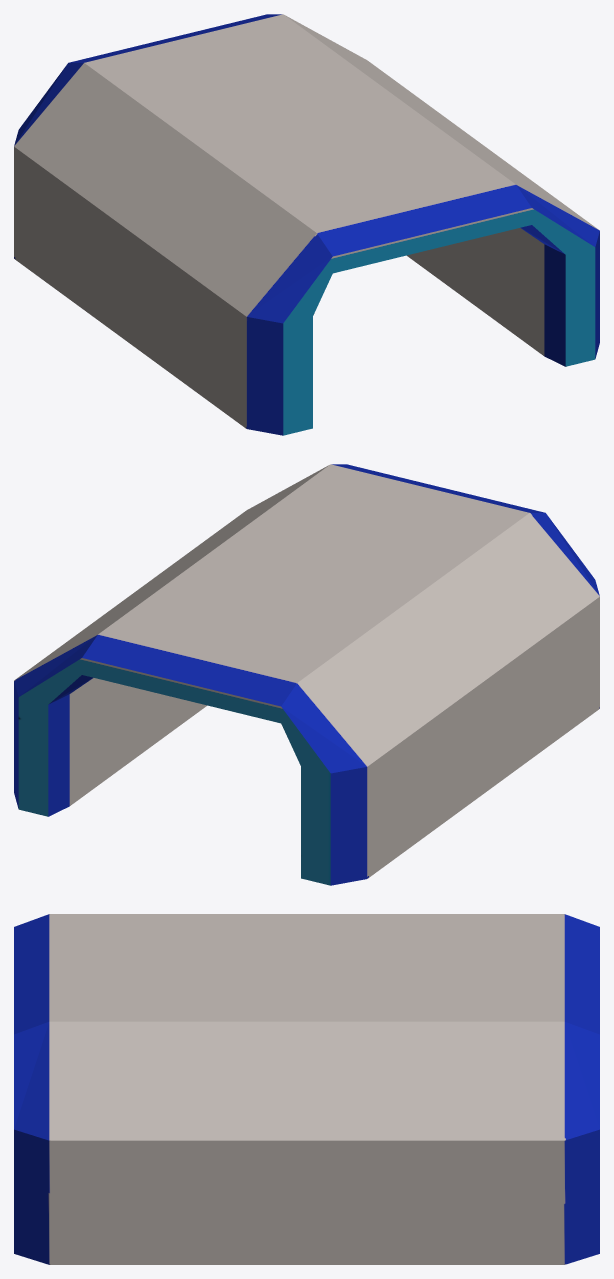
File: Tunel.obj
3 renders of one model, top to bottom at view 1: azimuth 30°, elevation 25°; view 2: azimuth 150°, elevation 25°; view 3: azimuth 270°, elevation 25°, orthographic. The views are drawn at different scales.
Parts seen in each view (by area): view 1: Tunel; view 2: Tunel; view 3: Tunel.
Boxes of the visible parts, x1,y1,x2,y2 form: Tunel: (14, 14, 599, 435); Tunel: (14, 464, 599, 885); Tunel: (14, 914, 599, 1264).
Bounding box in the file's own units: 24.23 × 11.71 × 31.42.
Materials: 1 (1 with a texture image).
